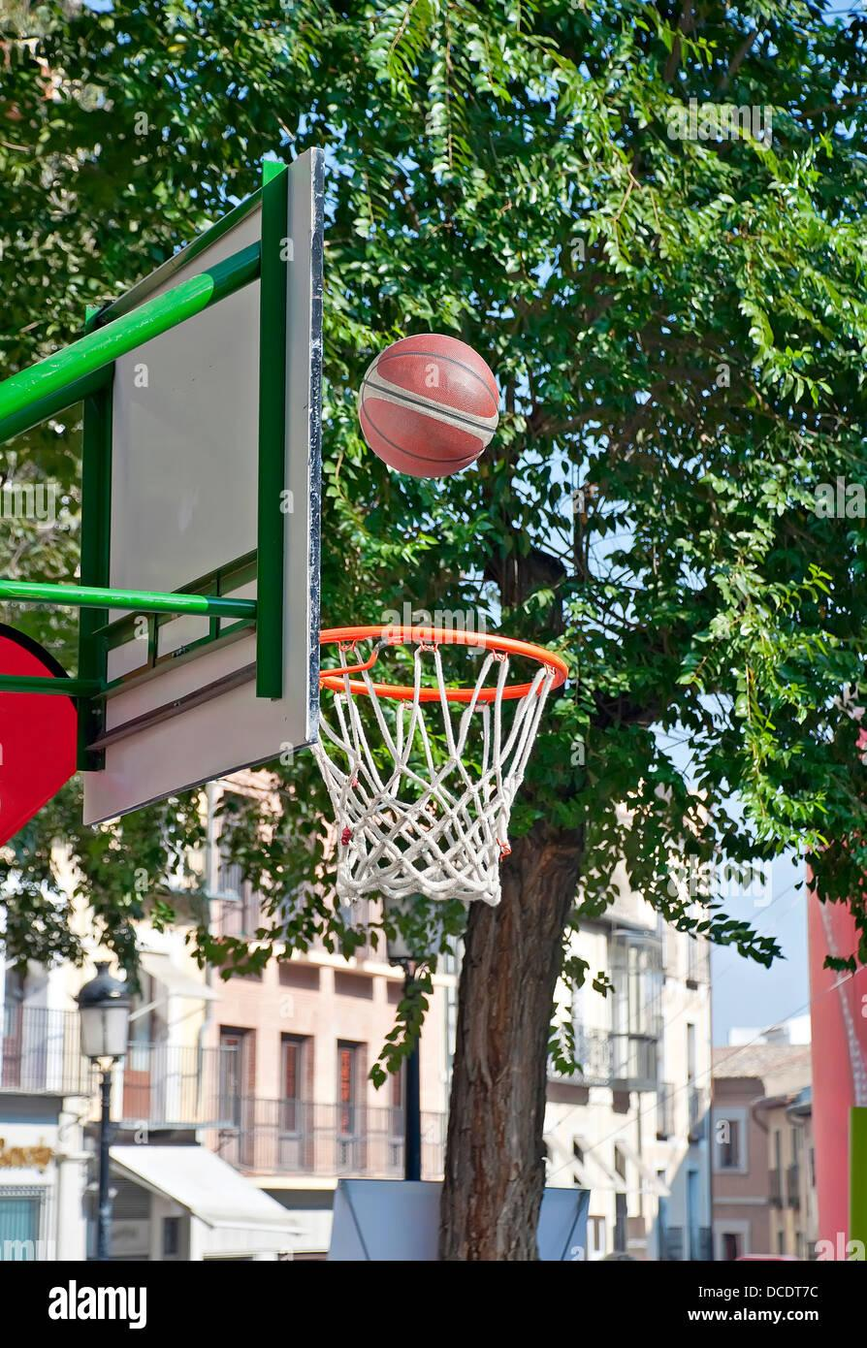basketball: (359, 326, 500, 477)
